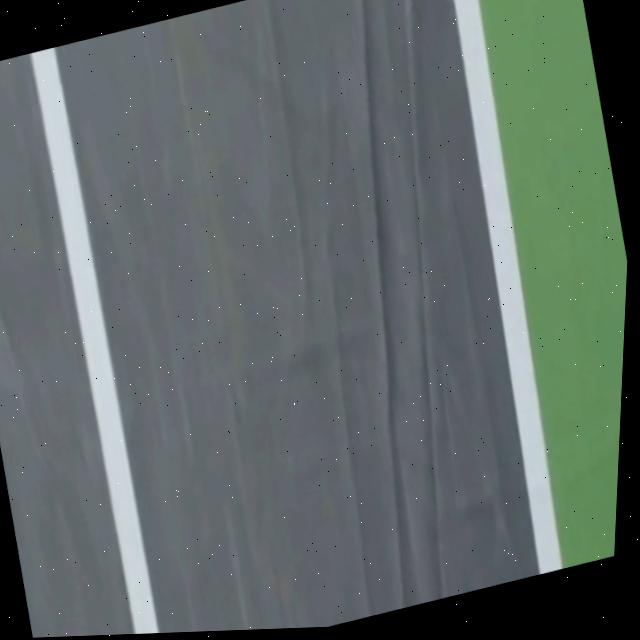center: (30, 47, 157, 634)
right: (453, 0, 562, 574)
